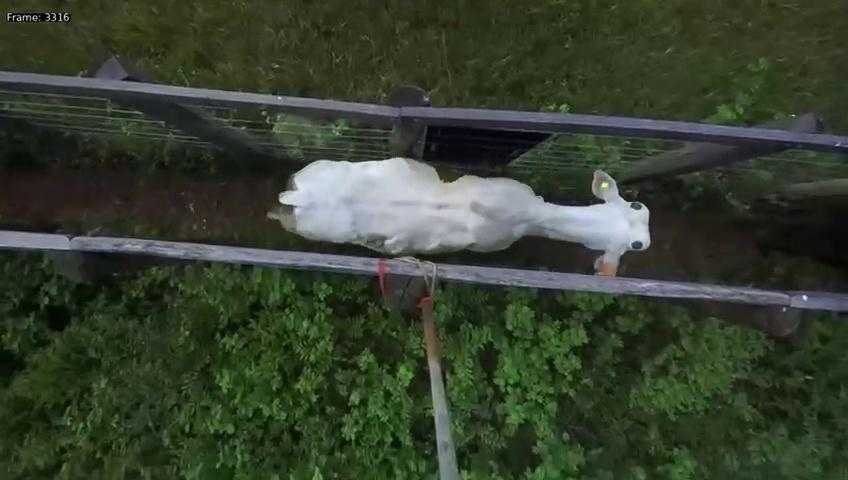cattle: (248, 146, 659, 283)
